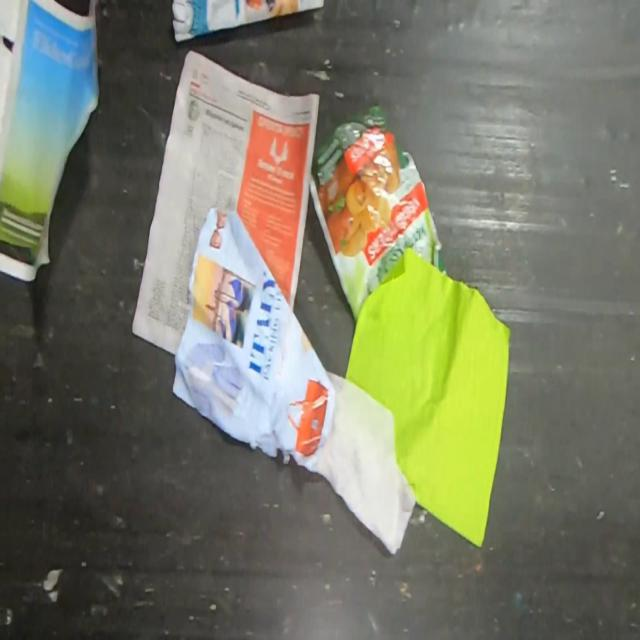soft_plastic: (307, 102, 448, 324)
